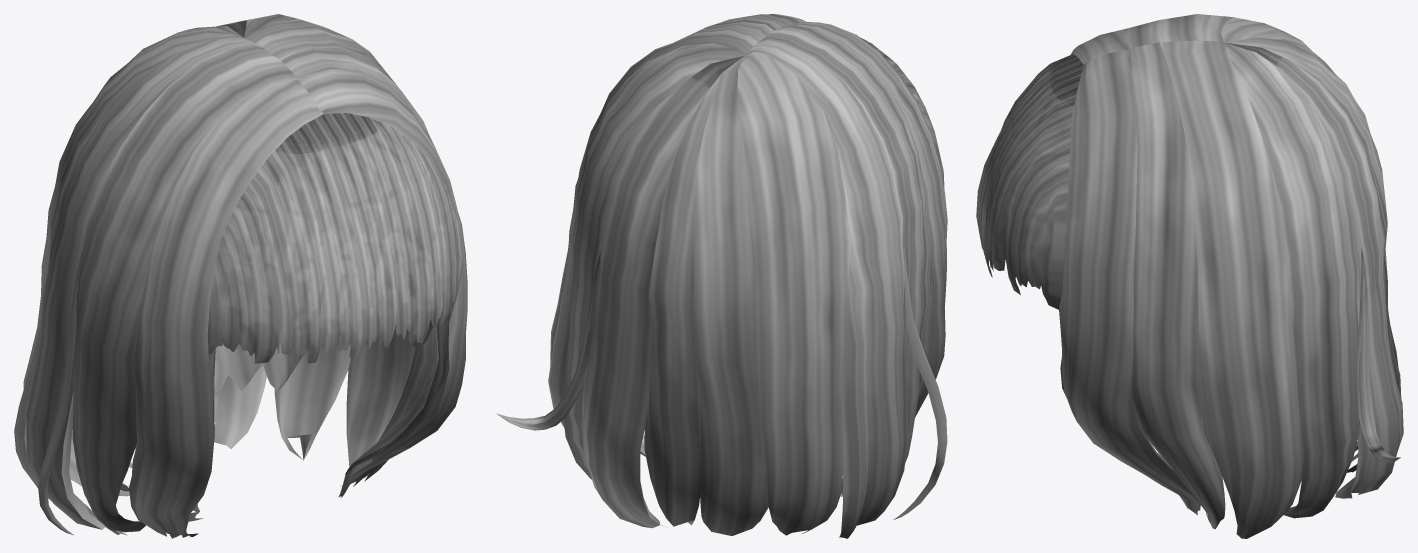
Rendered from hair_bob01.glb.
3 renders of one model, left to right at view 1: azimuth 30°, elevation 25°; view 2: azimuth 150°, elevation 25°; view 3: azimuth 270°, elevation 25°, orthographic. The views are drawn at different scales.
Parts seen in each view (by area): view 1: hair_bob01; view 2: hair_bob01; view 3: hair_bob01.
Part boxes in pixels (<box>): hair_bob01: <box>14,14,467,538</box>; hair_bob01: <box>496,14,947,538</box>; hair_bob01: <box>976,14,1403,538</box>.
Size of the model in its own units: 0.2148 by 0.2425 by 0.2113.
Materials: 1 (1 with a texture image).
